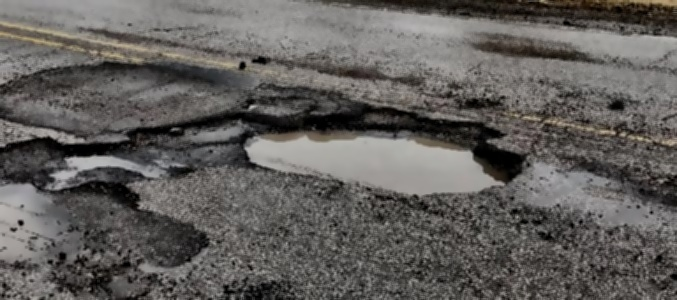pothole: (235, 102, 526, 196), (0, 132, 133, 193)
